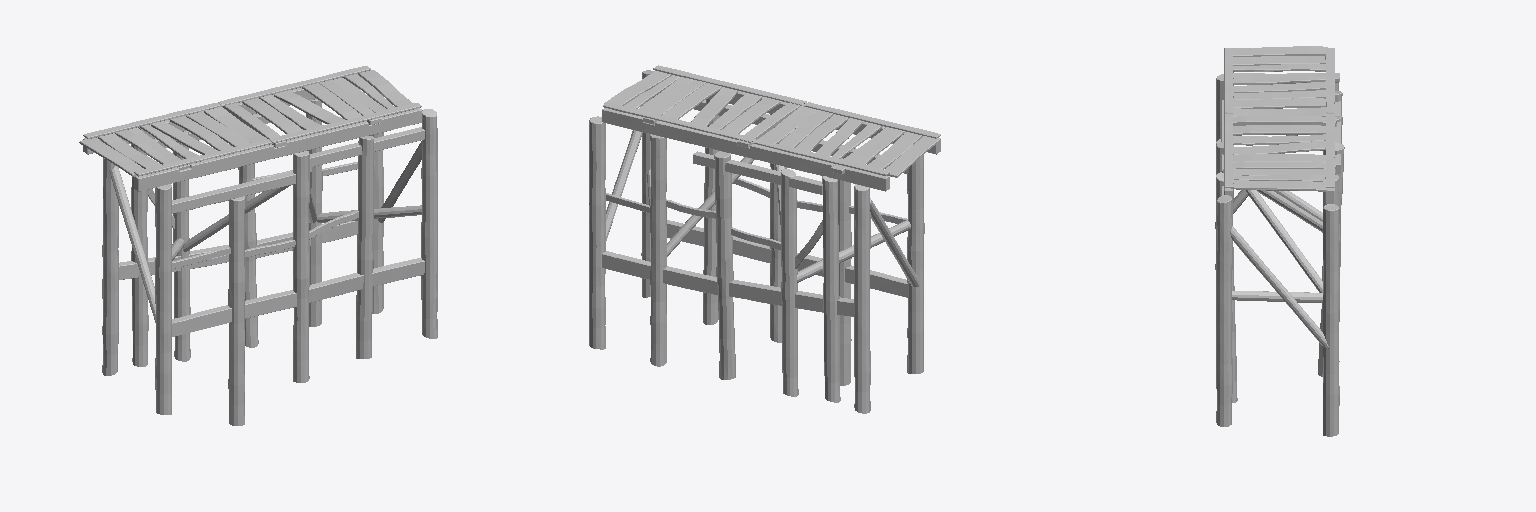
Rendered from msh_dock_pier_02.obj.
3 views of the same model, side by side, from view 1: azimuth 30°, elevation 25°; view 2: azimuth 150°, elevation 25°; view 3: azimuth 270°, elevation 25° (orthographic).
Bounding box in the file's own units: 7 × 6 × 2.56.